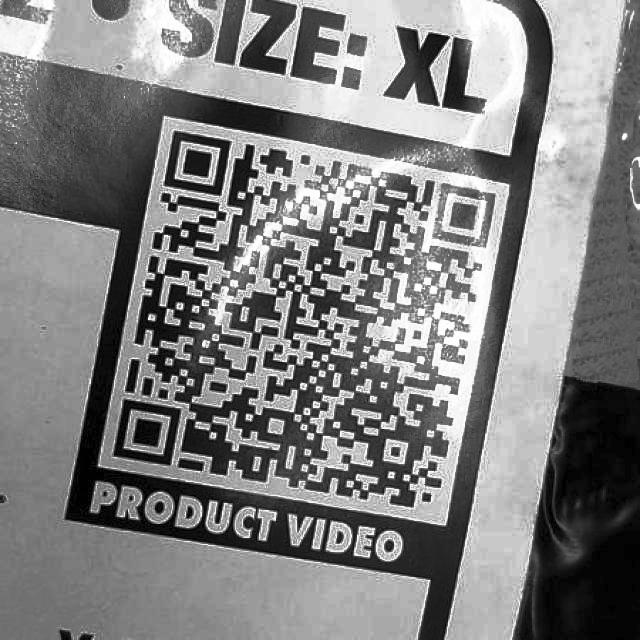qr_code: (100, 115, 509, 517)
